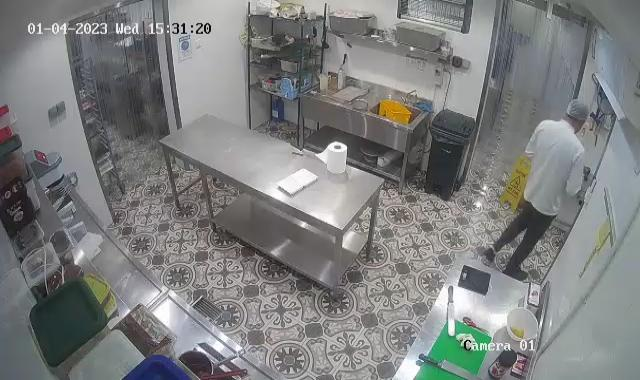hairnet: (566, 98, 590, 125)
